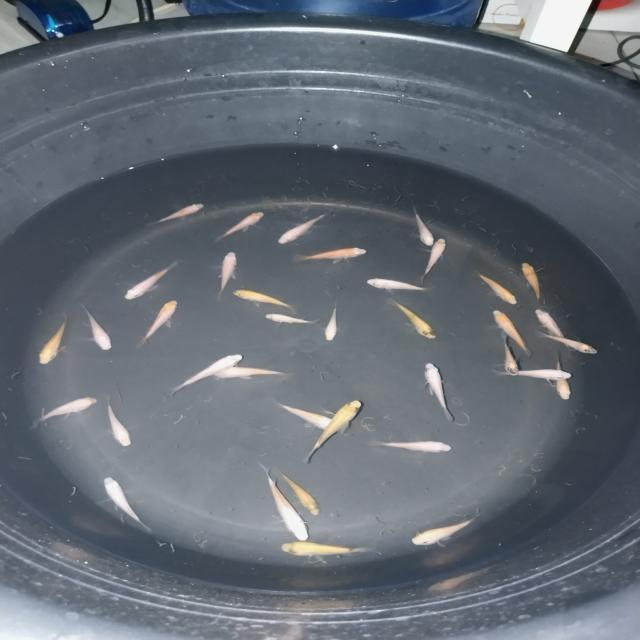nila: (258, 462, 316, 545), (304, 394, 366, 456), (100, 473, 152, 534), (170, 350, 244, 392), (271, 464, 324, 520), (266, 396, 344, 434), (406, 513, 479, 549), (120, 260, 181, 302), (488, 306, 537, 358), (28, 394, 102, 428), (385, 298, 442, 342), (420, 356, 455, 422), (274, 209, 334, 247), (374, 432, 458, 457), (76, 301, 116, 353), (136, 298, 180, 345), (279, 540, 372, 562), (99, 395, 136, 449), (471, 268, 521, 306), (490, 364, 584, 384), (210, 209, 266, 241), (228, 286, 302, 310), (528, 304, 568, 346), (542, 350, 574, 402), (534, 332, 603, 356), (144, 200, 206, 226), (36, 316, 68, 366), (516, 259, 550, 306), (417, 235, 448, 285), (365, 276, 435, 298), (408, 204, 438, 249), (294, 246, 369, 263), (497, 331, 523, 379), (214, 250, 238, 300), (204, 365, 294, 378), (260, 311, 322, 326), (321, 300, 342, 344)
